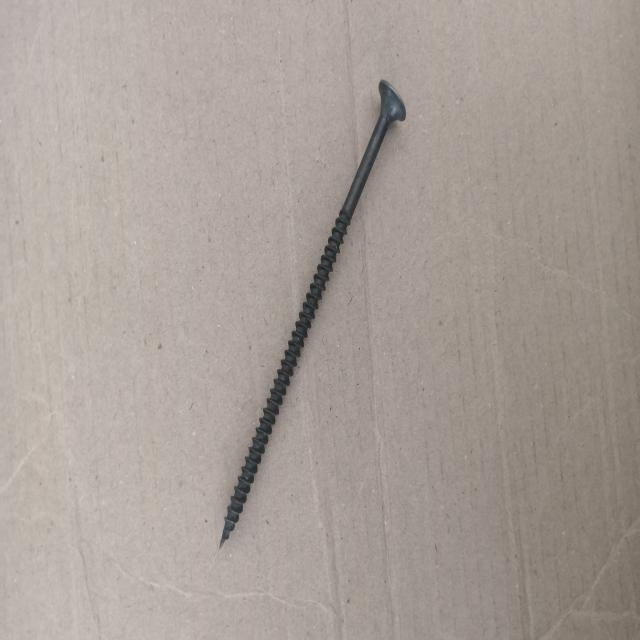screw: (219, 79, 405, 551)
